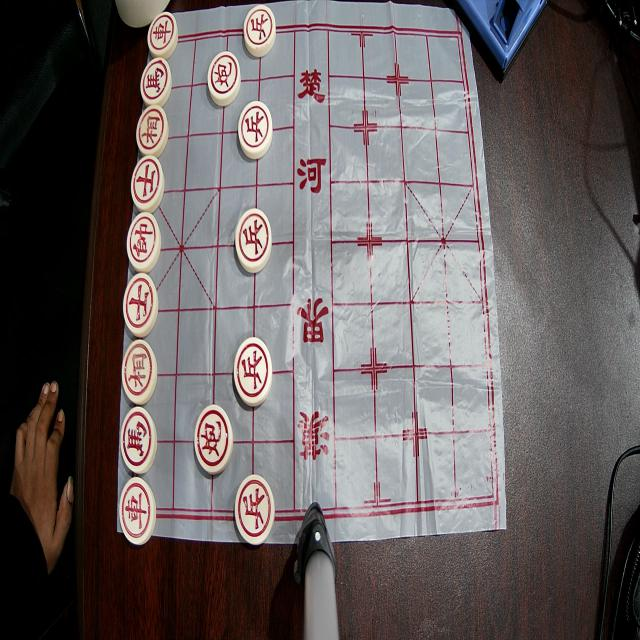red-cannon: (194, 404, 233, 474), (208, 51, 240, 106)
red-chariot: (120, 477, 156, 545), (148, 12, 178, 57)
red-elephant: (122, 340, 158, 404), (136, 105, 169, 155)
red-general: (127, 212, 161, 272)
red-guard: (123, 273, 159, 337), (131, 155, 165, 212)
red-horse: (120, 407, 158, 474), (140, 58, 172, 104)
red-soldier: (235, 474, 275, 545), (234, 337, 272, 406), (235, 208, 272, 273), (238, 100, 273, 160), (244, 5, 276, 57)
